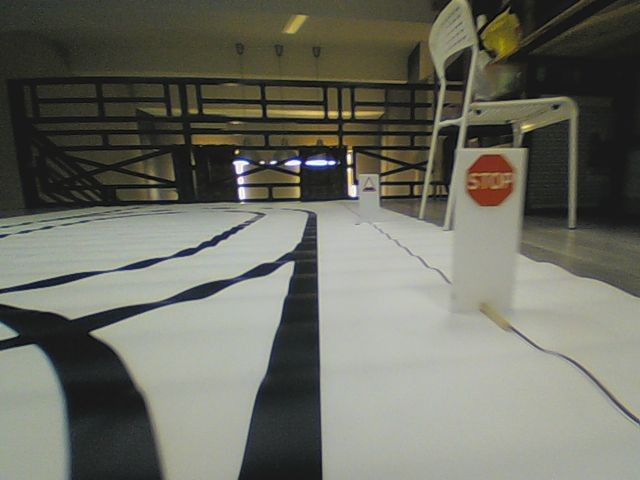Nerov: (362, 176, 376, 193)
Stop: (464, 152, 516, 207)
